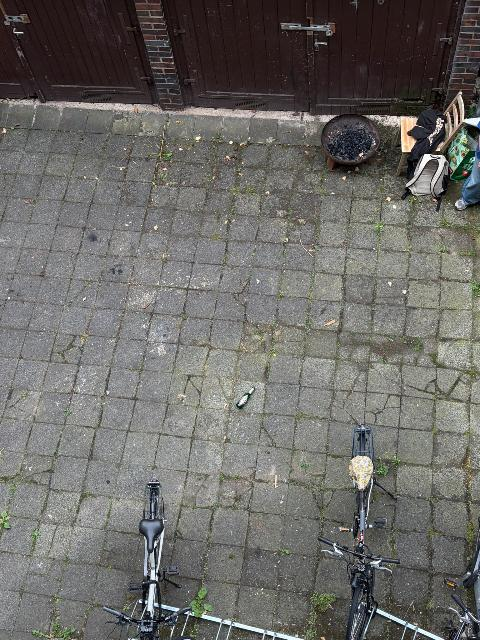glass_bottle: (236, 388, 255, 409)
